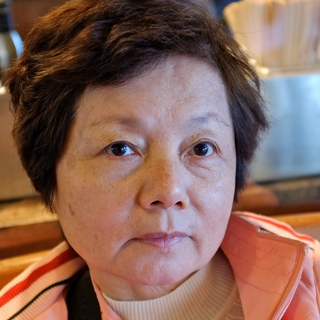eye: (96, 136, 144, 164), (180, 138, 222, 164)
